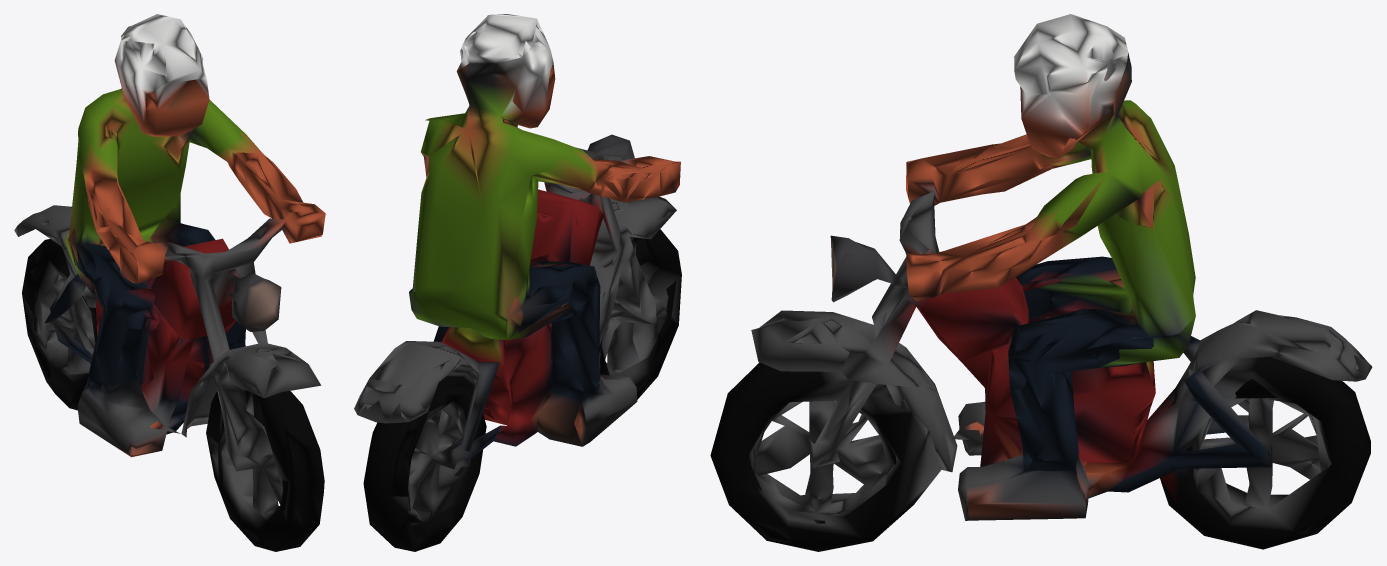
The model's file is gen3d-rider-lod0.glb.
3 views of the same model, side by side, from view 1: azimuth 30°, elevation 25°; view 2: azimuth 150°, elevation 25°; view 3: azimuth 270°, elevation 25° (orthographic). The views are drawn at different scales.
Visible parts, largest first — view 1: part_0; view 2: part_0; view 3: part_0.
Part boxes in pixels (x1,y1,x2,y2): part_0: [14, 14, 325, 551]; part_0: [354, 14, 681, 551]; part_0: [710, 14, 1372, 551].
Bounding box in the file's own units: 0.4639 × 0.9992 × 1.14.
